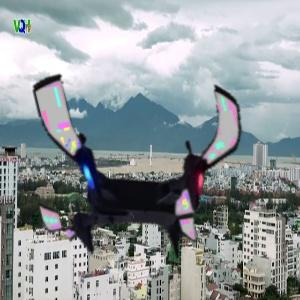drone: (26, 47, 257, 278)
